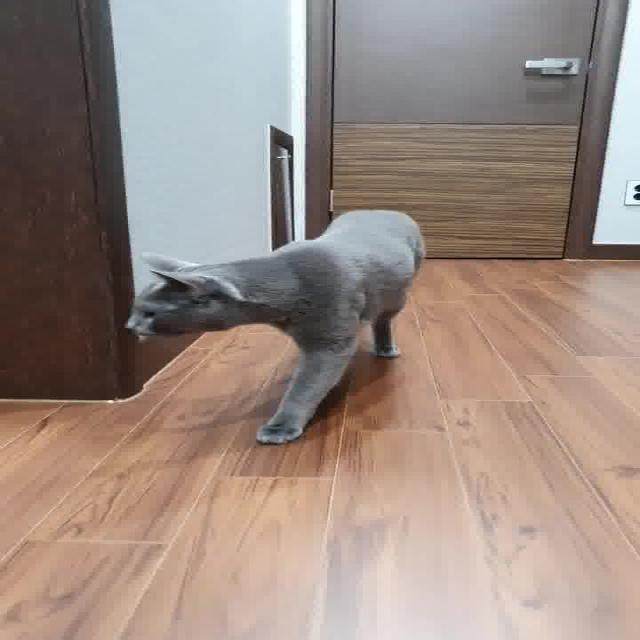cat: (41, 193, 489, 458)
